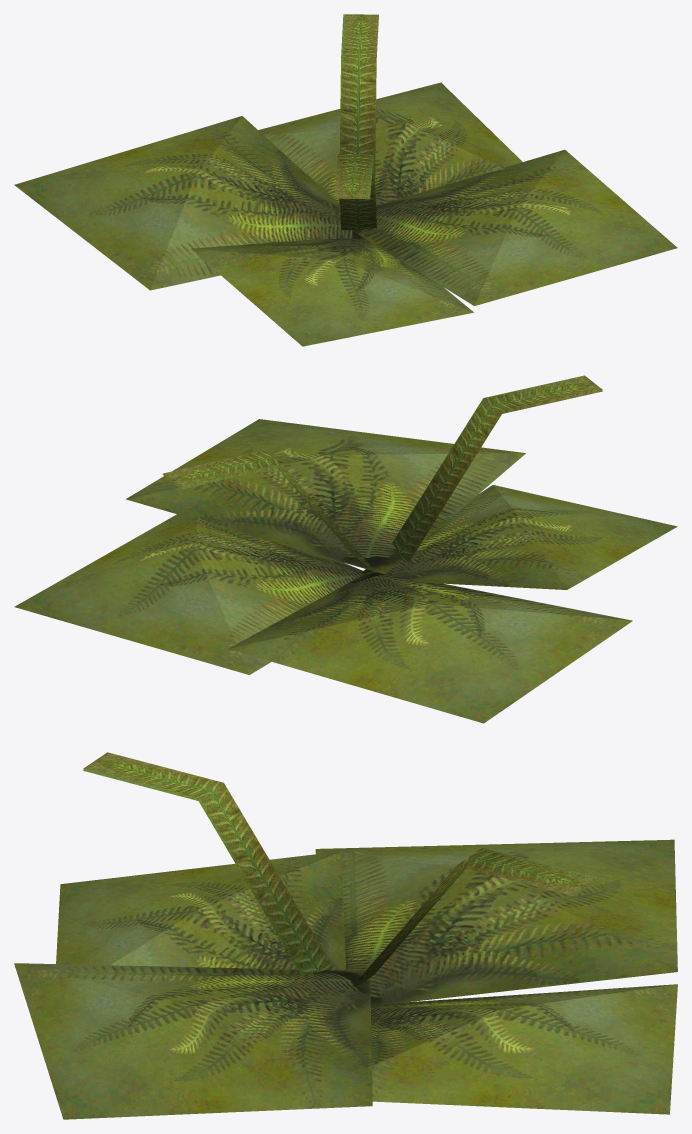
File: frst_fern_olive_sm_l2.fbx
3 views of the same model, one above another, from view 1: azimuth 30°, elevation 25°; view 2: azimuth 150°, elevation 25°; view 3: azimuth 270°, elevation 25° (orthographic). The views are drawn at different scales.
Visible parts, largest first — view 1: mesh_node; view 2: mesh_node; view 3: mesh_node.
Part boxes in pixels (left/top/right/bottom): mesh_node: left=14, top=14, right=677, bottom=346; mesh_node: left=14, top=375, right=677, bottom=723; mesh_node: left=14, top=752, right=677, bottom=1119.
Bounding box in the file's own units: 2.3 × 0.7167 × 2.28.
